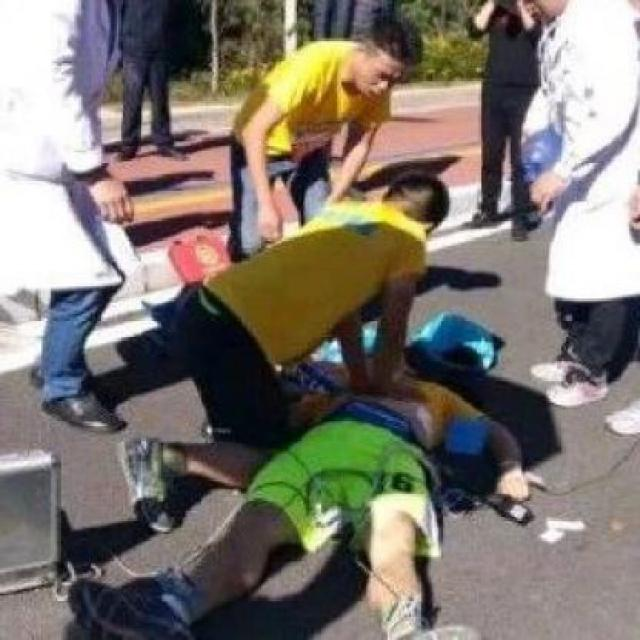fall: (40, 322, 528, 638)
